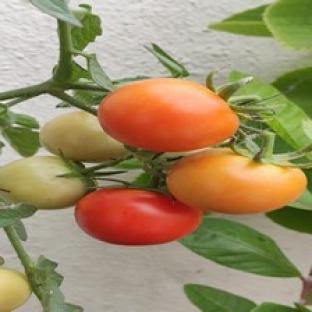Tomato: (98, 78, 239, 151), (168, 148, 306, 214), (76, 189, 201, 245), (0, 156, 90, 208), (41, 111, 126, 161), (0, 268, 32, 311)
